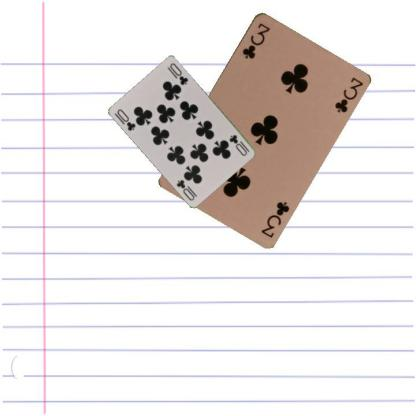10c: (226, 132, 251, 157), (114, 106, 137, 132)
3c: (258, 198, 291, 239), (239, 20, 271, 60)
